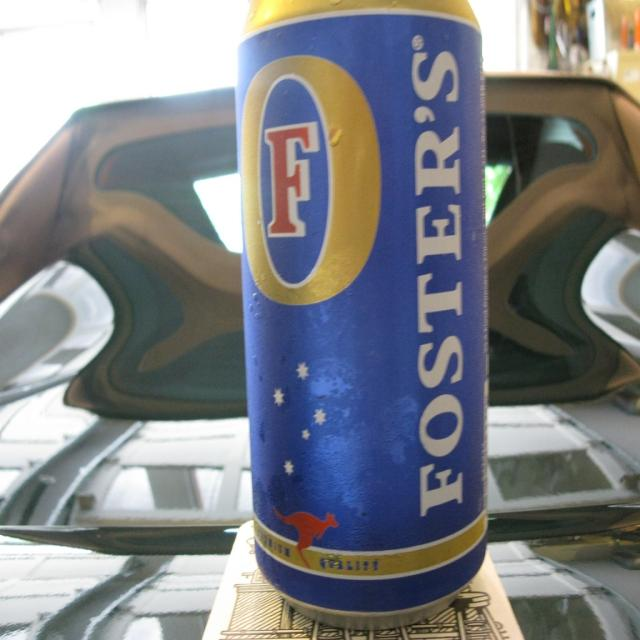fosters: (239, 52, 385, 309)
